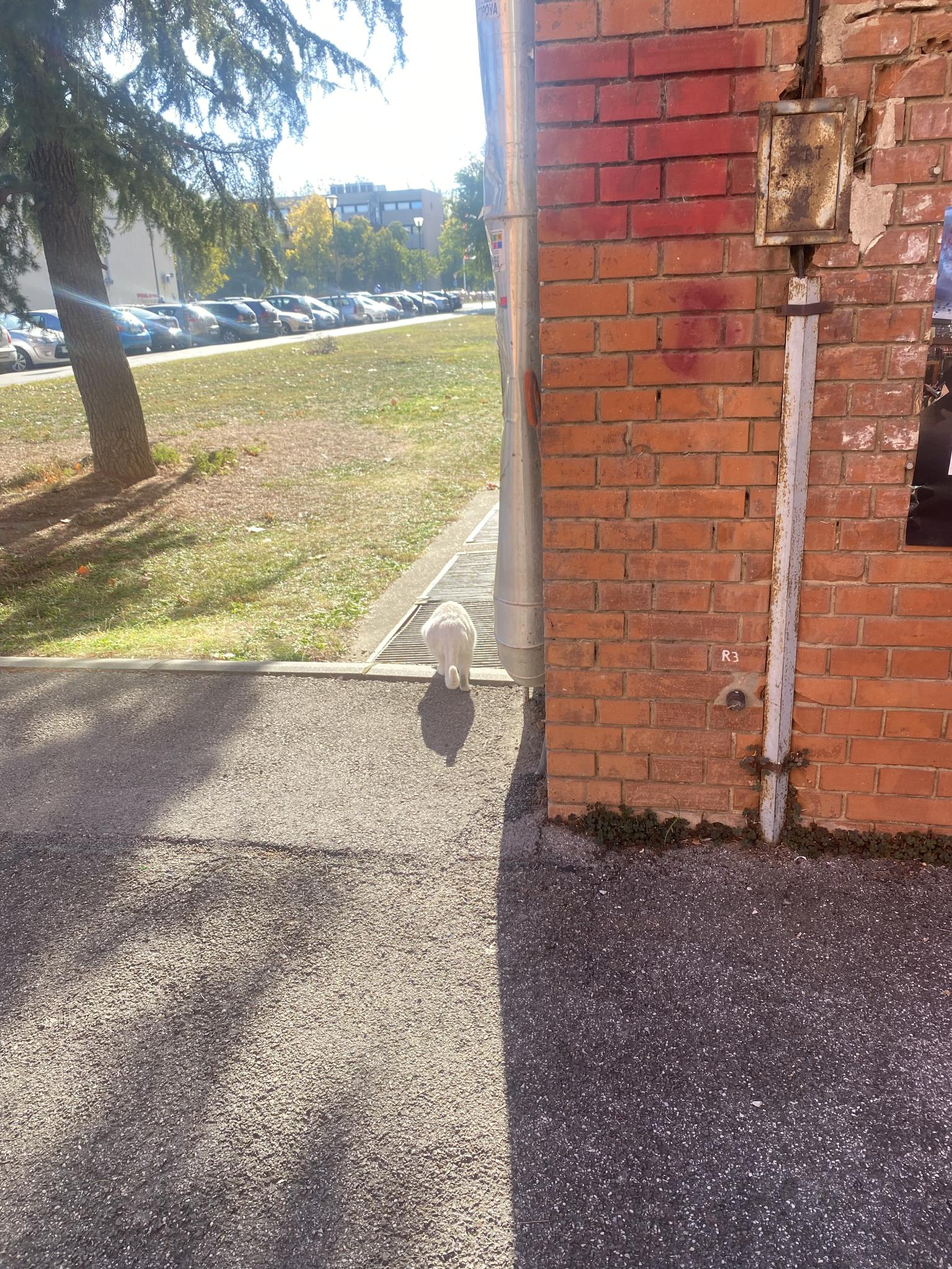macka: (420, 601, 477, 692)
